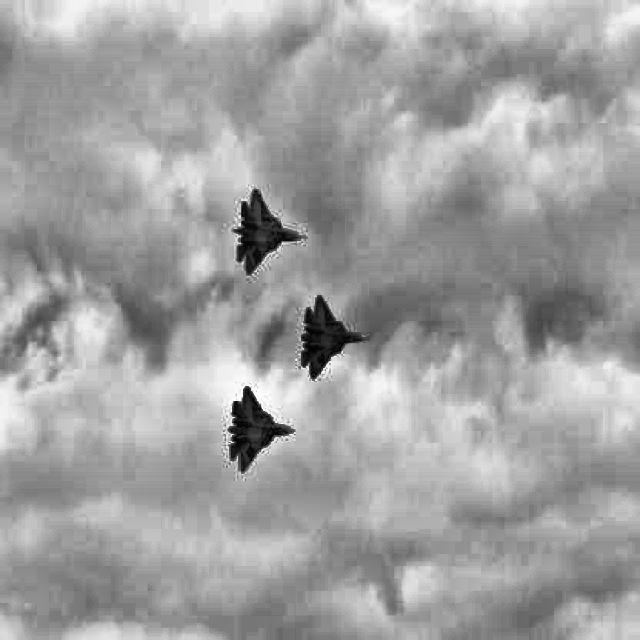Su57: (232, 188, 308, 274), (300, 294, 371, 380), (228, 387, 295, 473)
